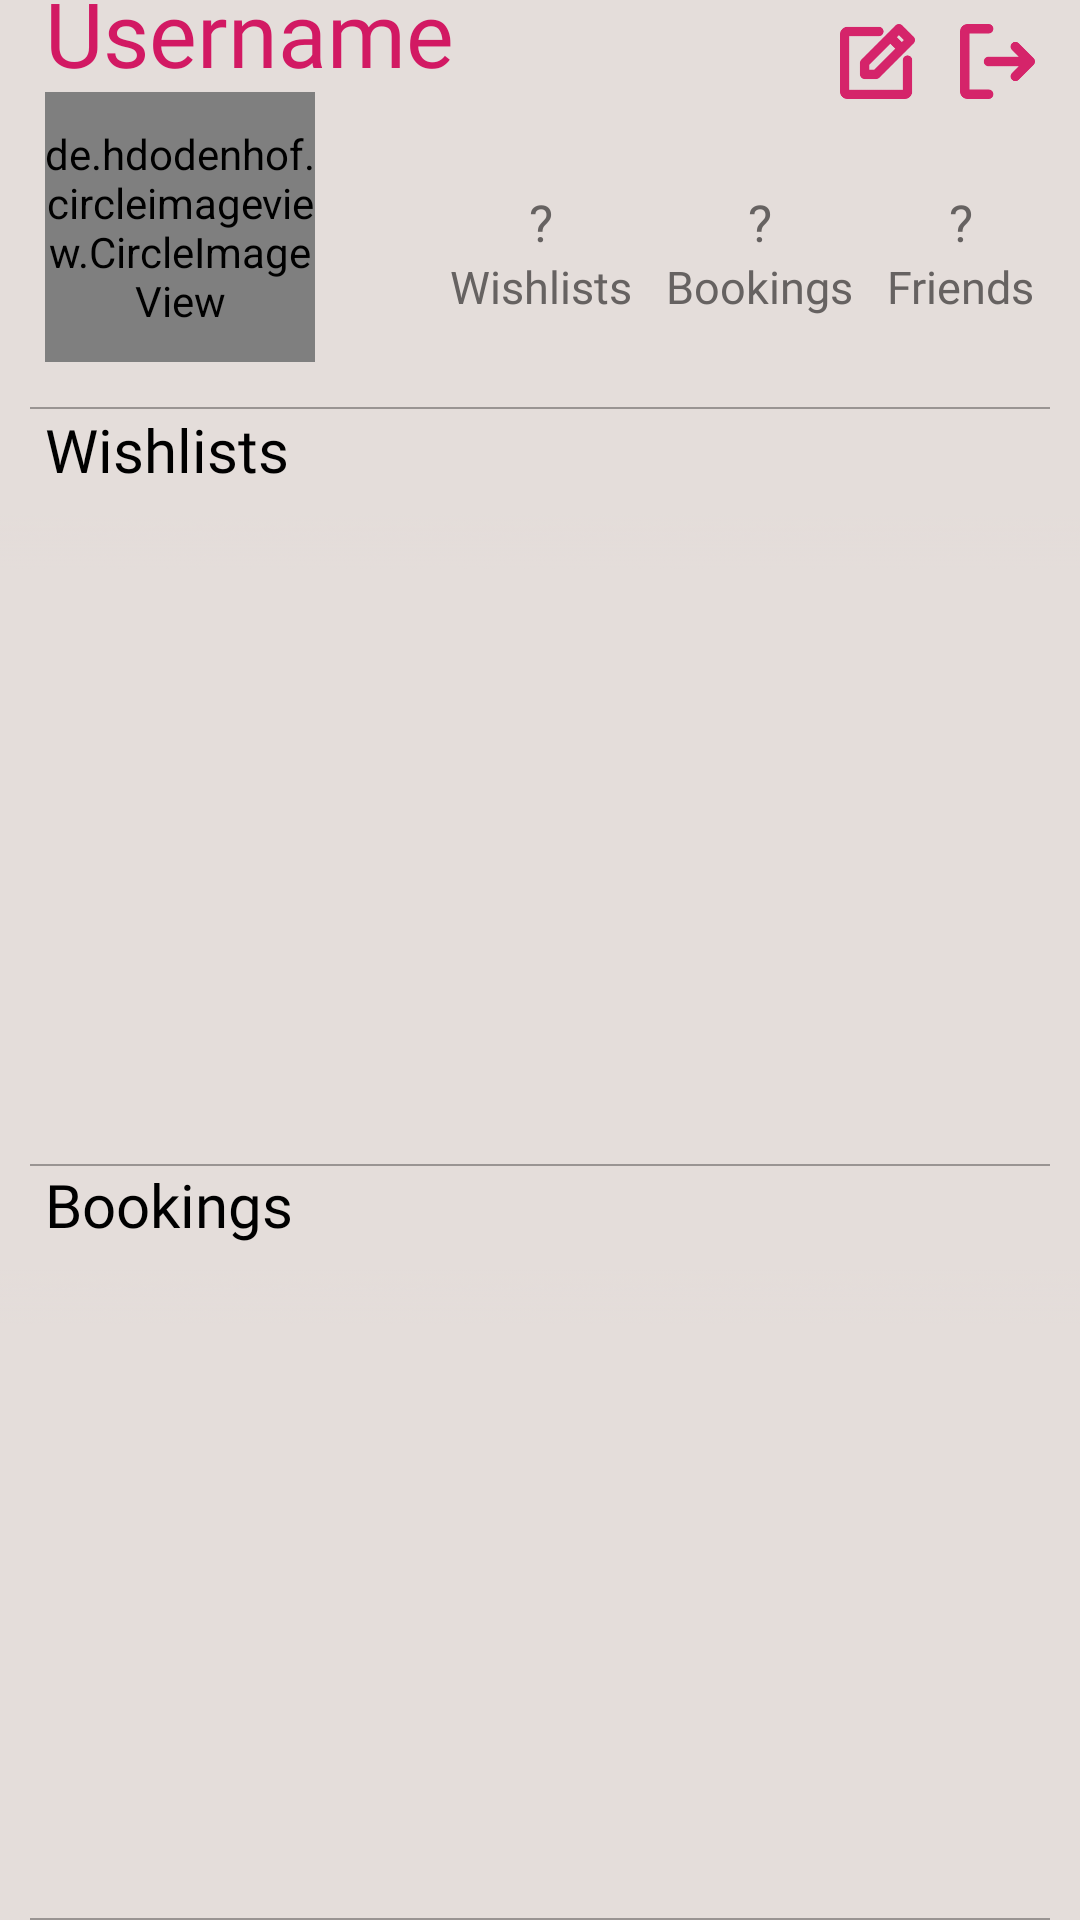

Screen size 1080*1920. Icon name, then its box in pixels as box(x1, y1, x2, y2):
edittop: box(840, 24, 915, 99)
exittop: box(960, 24, 1035, 99)
